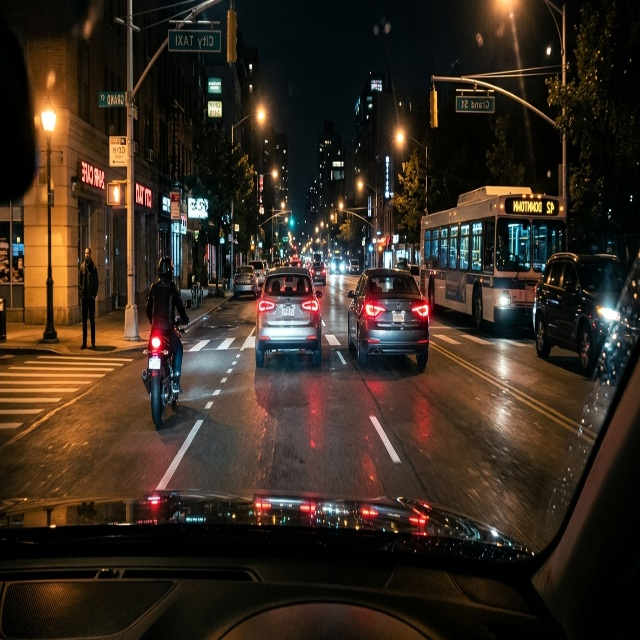bus: (421, 185, 566, 334)
car: (534, 251, 626, 372), (347, 266, 430, 371), (255, 298, 322, 368)
motorcycle: (142, 319, 183, 428)
person: (146, 254, 189, 393), (79, 250, 100, 349)
